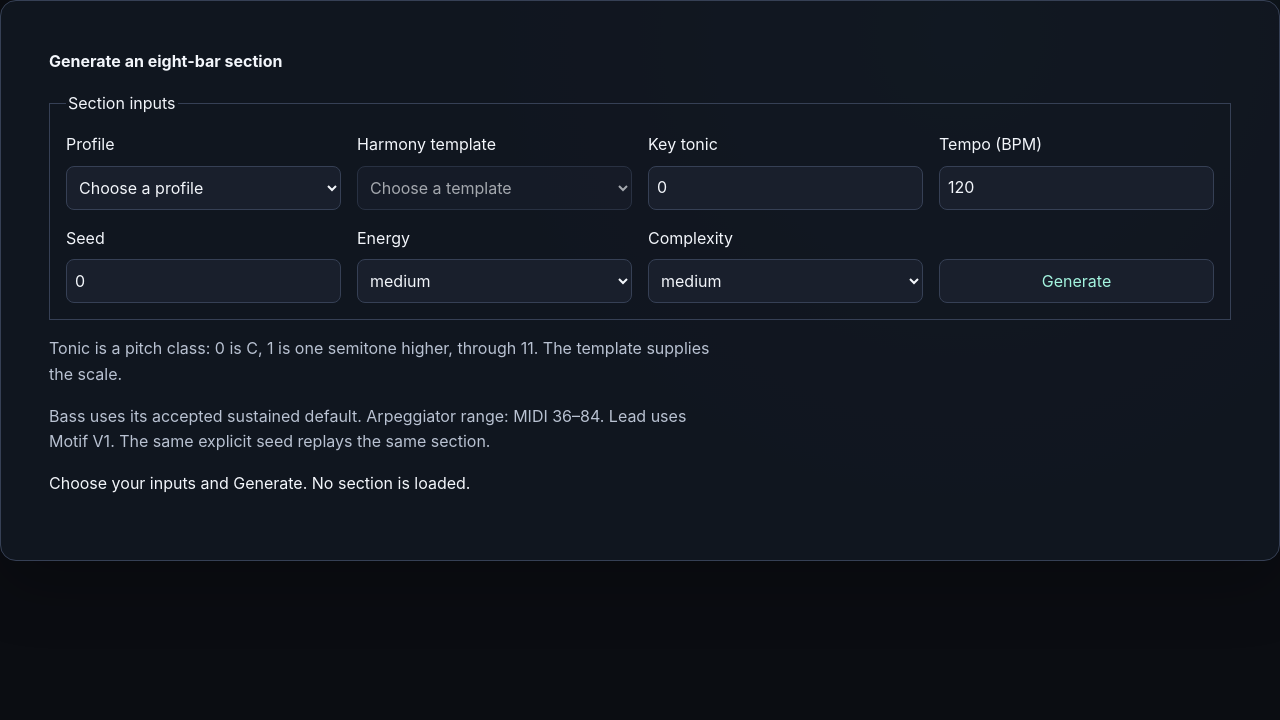
it: Generate section consumer › Snap Start maps literal tick 119 to 0 through existing v2
Select "dark-synthwave" in the dropdown labelled "Profile" at (204, 188), box x1=66 y1=166 x2=341 y2=210
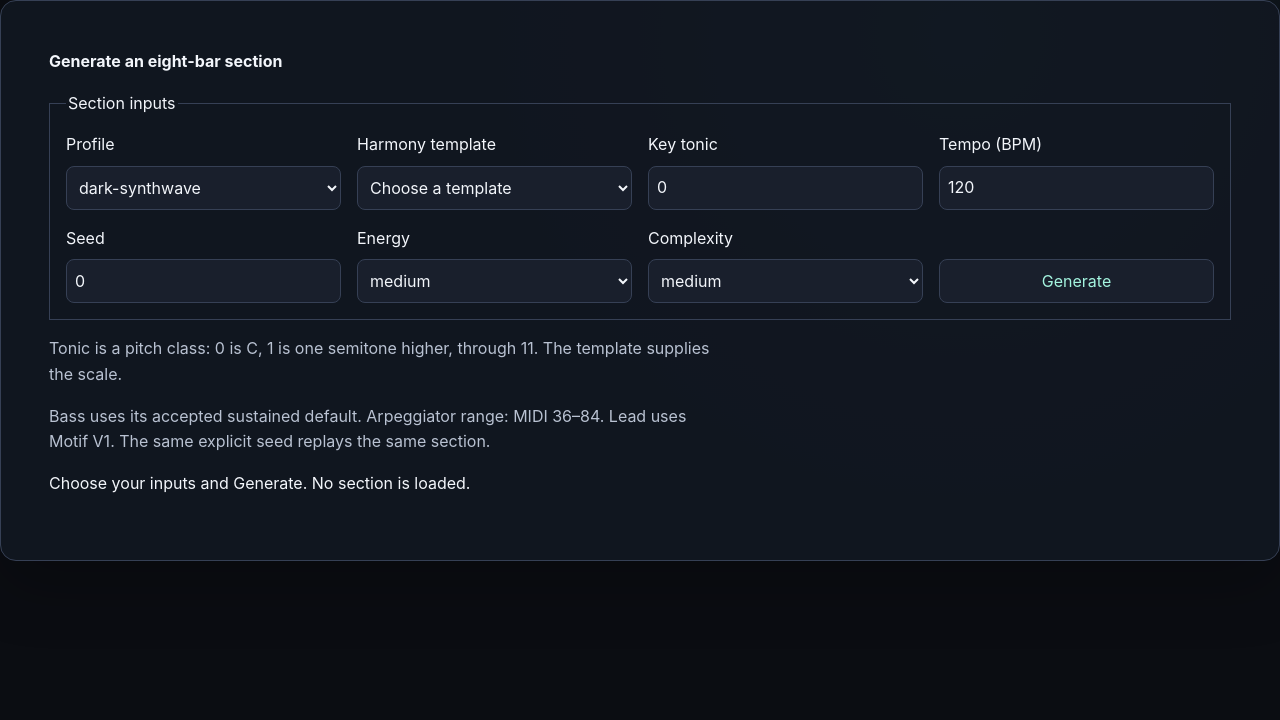
Select "degree-0654-natural-minor-v1 (natural-minor)" in the dropdown labelled "Harmony template" at (494, 188), box x1=357 y1=166 x2=632 y2=210
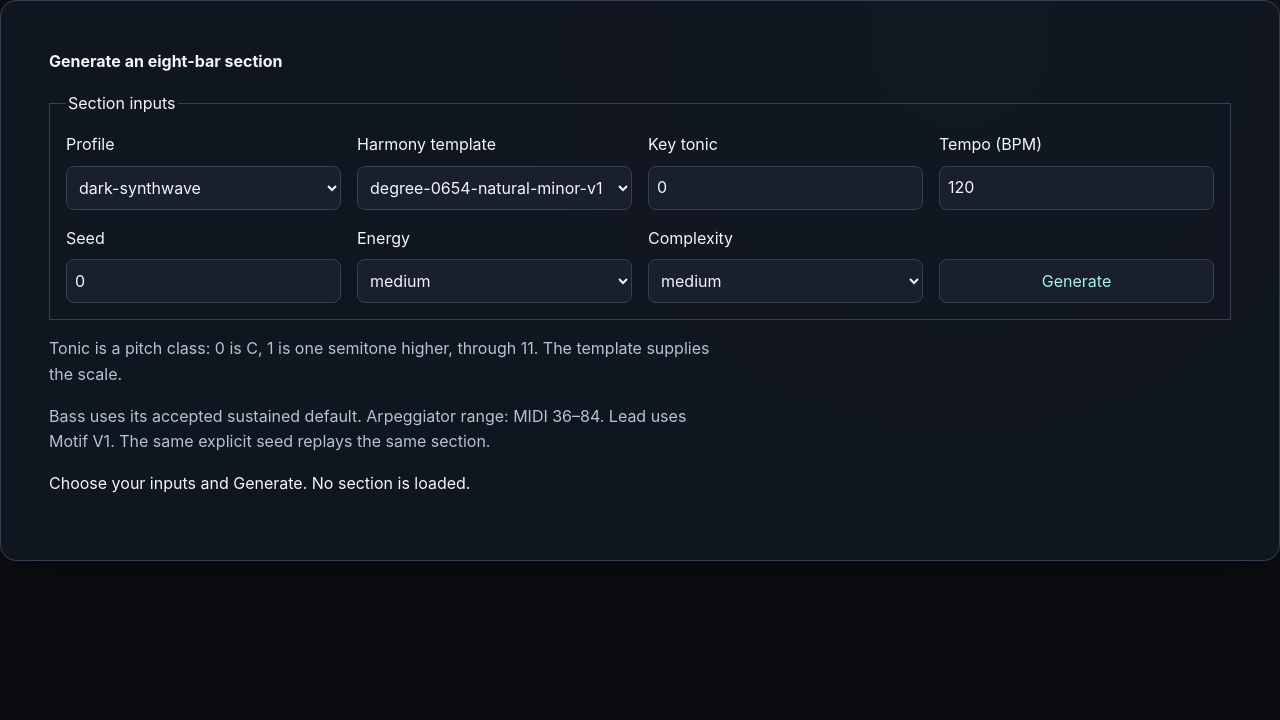
Submit the form named "Generate", box x1=49 y1=91 x2=1231 y2=320
(page scrolled)
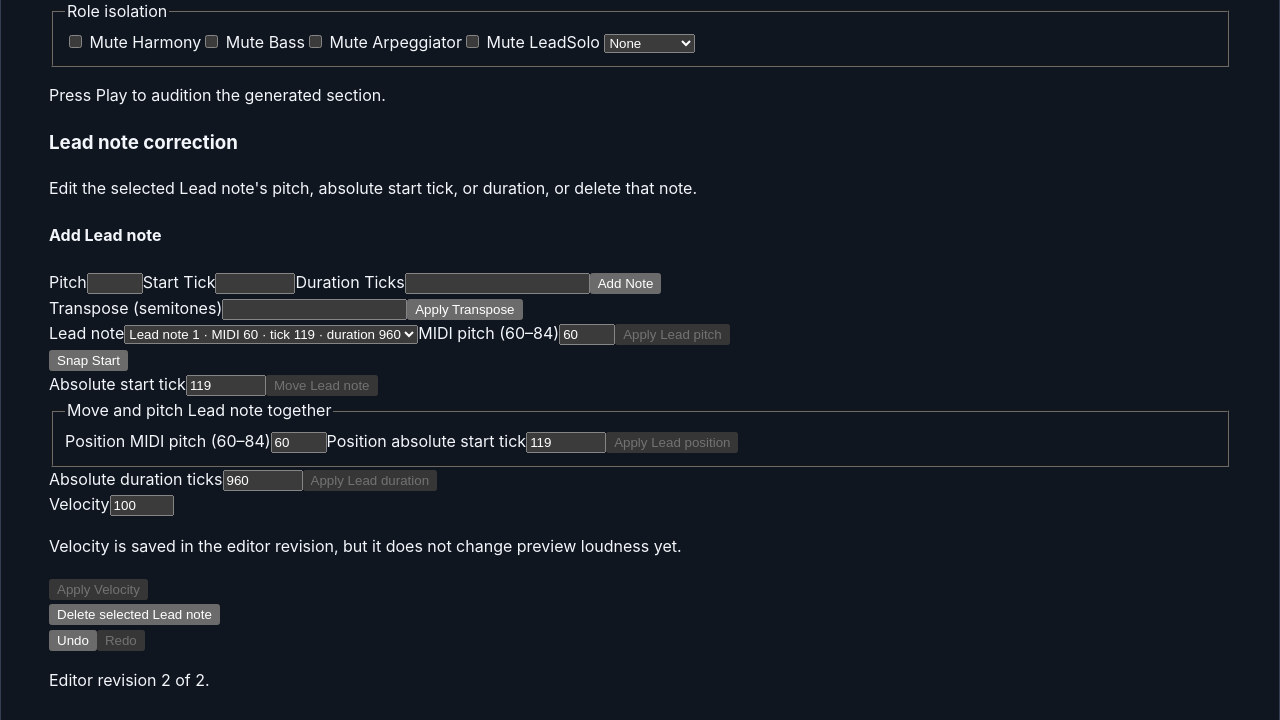
expect the button "Snap Start" is enabled: met
Click the button "Snap Start" at (88, 360), box x1=49 y1=350 x2=128 y2=371
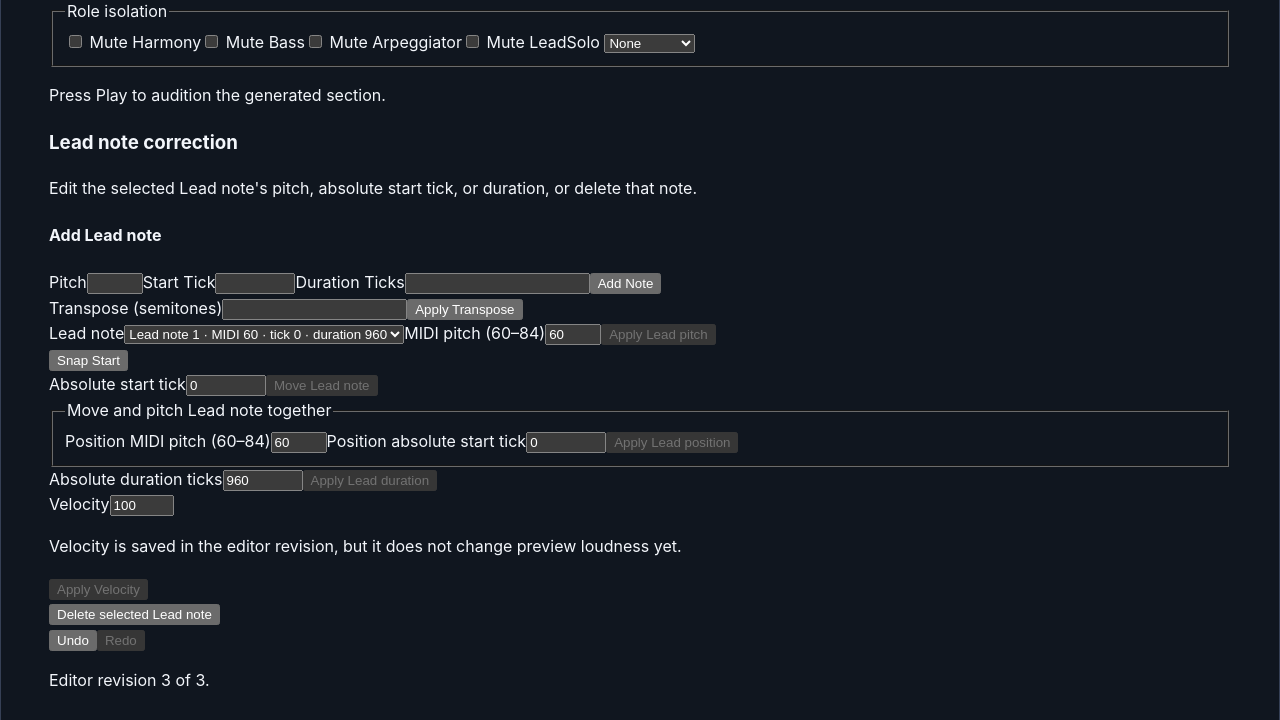
expect the text "Editor revision 3 of 3." is shown: met, box x1=49 y1=670 x2=210 y2=690
expect the number field labelled "Absolute start tick" holds "0": met, box x1=186 y1=375 x2=266 y2=396
